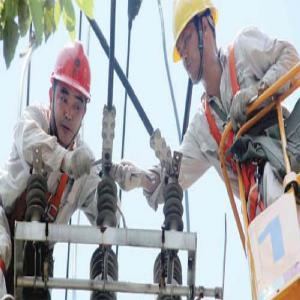red: (50, 39, 94, 145)
yellow: (172, 3, 220, 86)
